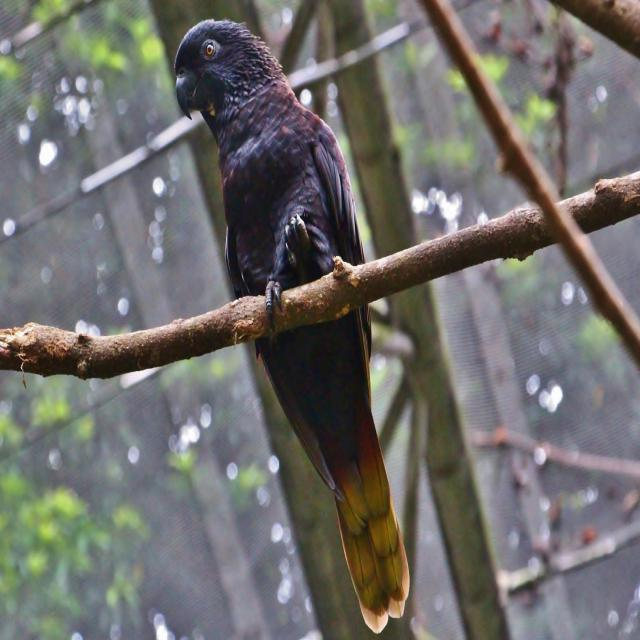Nuri Hitam: (158, 16, 427, 640)
